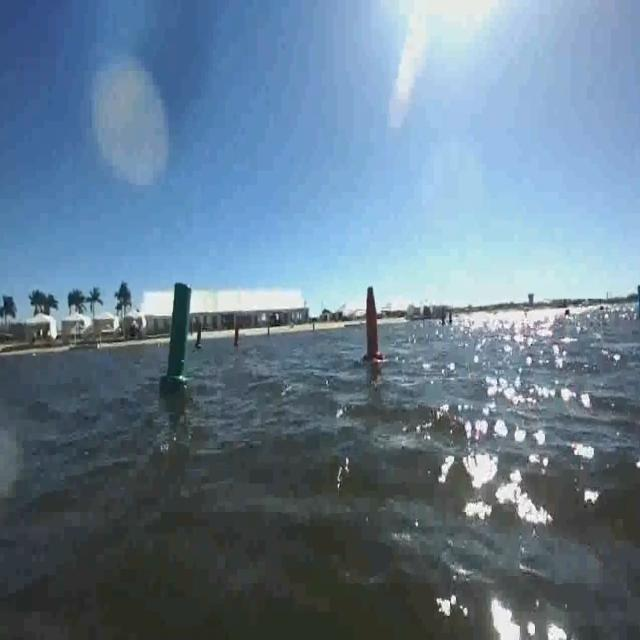green-column-buoy: (162, 281, 194, 393), (193, 322, 202, 350), (635, 283, 640, 315)
red-column-buoy: (362, 283, 384, 363), (234, 324, 243, 346)
